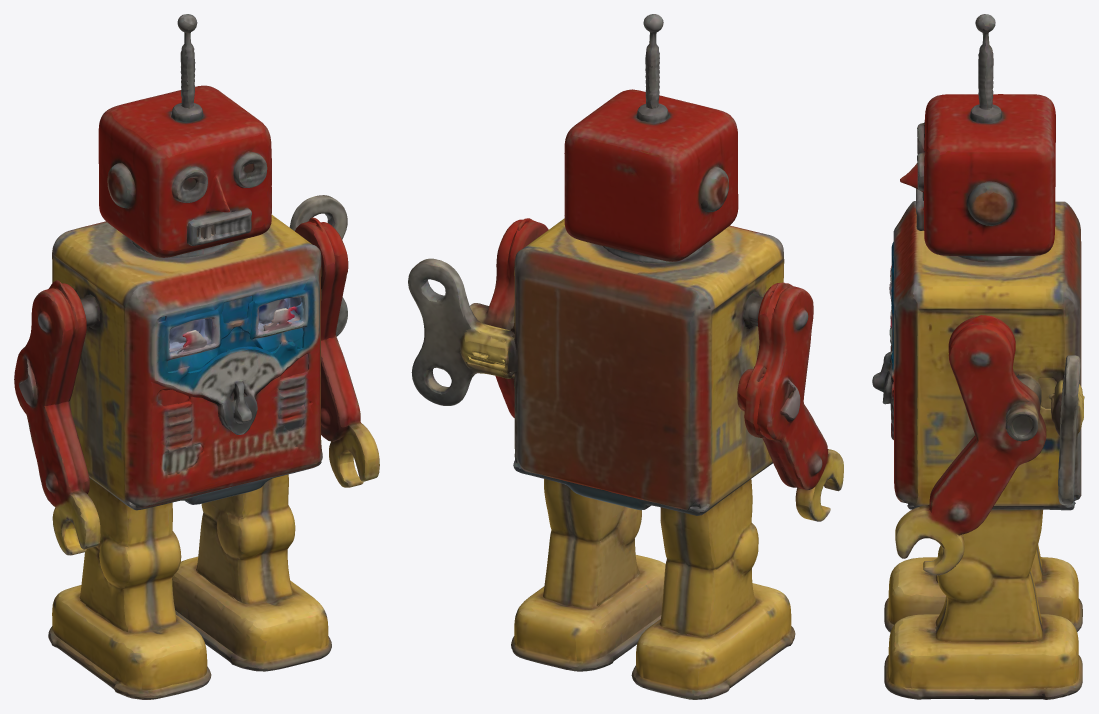
Rendered from whole.glb.
3 renders of one model, left to right at view 1: azimuth 30°, elevation 25°; view 2: azimuth 150°, elevation 25°; view 3: azimuth 270°, elevation 25°, orthographic.
Parts seen in each view (by area): view 1: world; view 2: world; view 3: world.
Boxes of the visible parts, bbox=[...] form: world: bbox=[14, 14, 379, 699]; world: bbox=[408, 14, 843, 699]; world: bbox=[872, 14, 1084, 699].
Bounding box in the file's own units: 0.1353 × 0.23 × 0.0698.
1 material, 1 textured.
